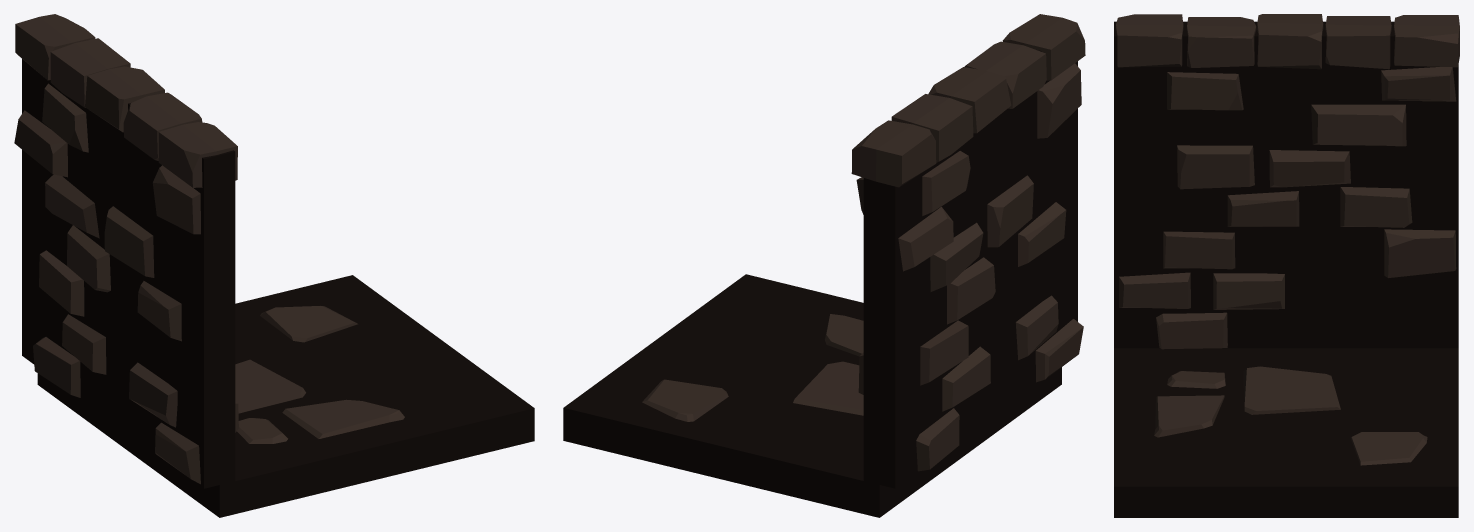
Rendered from SM_Demo_Environment.fbx.
The picture shows the model from 3 angles, left to right: view 1: azimuth 30°, elevation 25°; view 2: azimuth 150°, elevation 25°; view 3: azimuth 270°, elevation 25°; orthographic projection. The views are drawn at different scales.
Parts seen in each view (by area): view 1: SM_Wall_3x3, SM_Floor_3x3; view 2: SM_Wall_3x3, SM_Floor_3x3; view 3: SM_Wall_3x3, SM_Floor_3x3.
Boxes of the visible parts, box(x1,y1,x2,y2) form: SM_Wall_3x3: box(14, 14, 238, 488); SM_Floor_3x3: box(37, 275, 534, 517); SM_Wall_3x3: box(851, 14, 1085, 488); SM_Floor_3x3: box(563, 274, 1061, 517); SM_Wall_3x3: box(1114, 14, 1459, 349); SM_Floor_3x3: box(1114, 348, 1458, 517).
Bounding box in the file's own units: 3.28 × 3.35 × 3.01.
